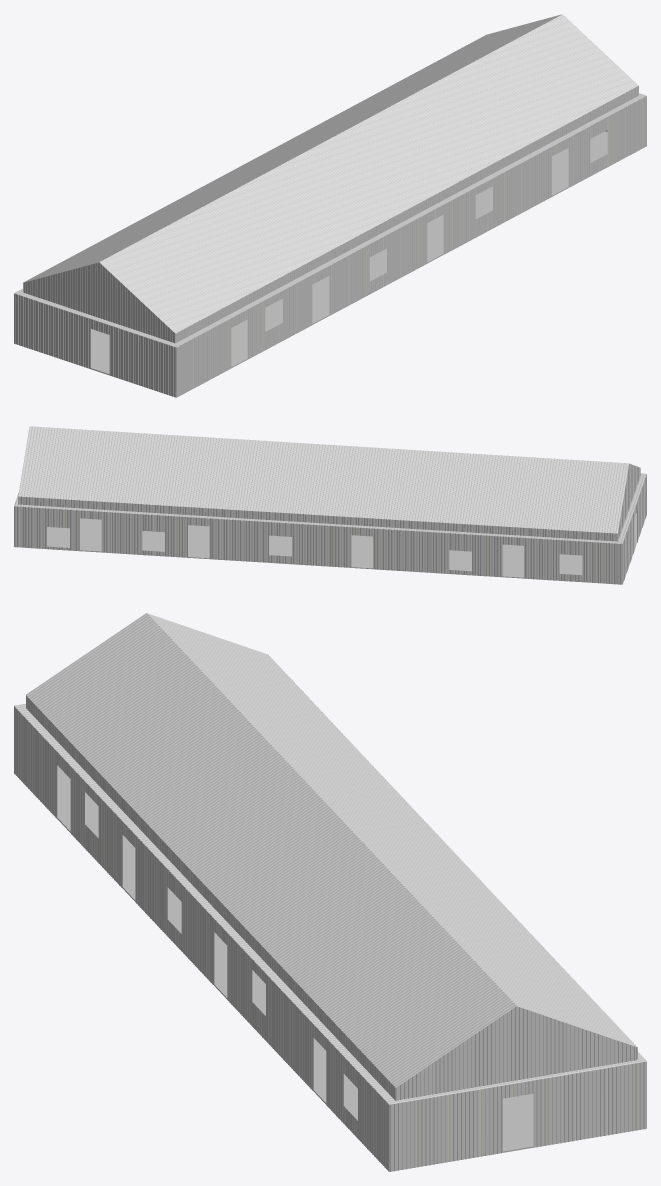
3 views of the same model, one above another, from view 1: azimuth 30°, elevation 25°; view 2: azimuth 150°, elevation 25°; view 3: azimuth 270°, elevation 25° (orthographic). The views are drawn at different scales.
Parts seen in each view (by area): view 1: H棟, object 2; view 2: object 2, H棟; view 3: H棟, object 2.
Part boxes in pixels (bbox=[...]): H棟: bbox=[14, 14, 646, 397]; object 2: bbox=[23, 14, 561, 282]; object 2: bbox=[18, 426, 628, 533]; H棟: bbox=[14, 426, 646, 584]; H棟: bbox=[14, 613, 646, 1171]; object 2: bbox=[147, 613, 636, 1047].
Size of the model in its own units: 34.99 by 5.25 by 21.17.
Materials: 3 (1 with a texture image).
